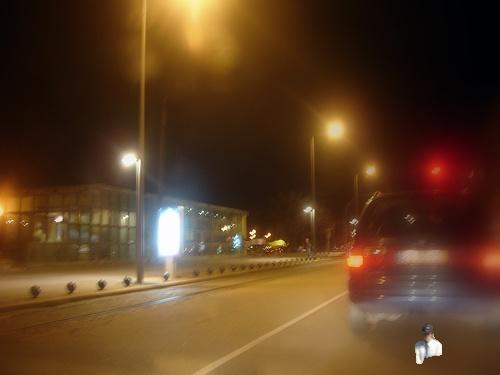tampered: (416, 325, 442, 364)
